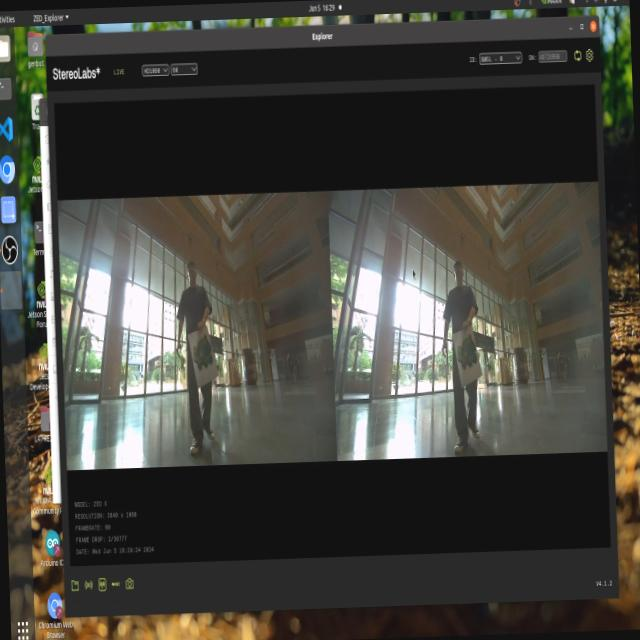green: (188, 332, 222, 377), (456, 331, 478, 375)
